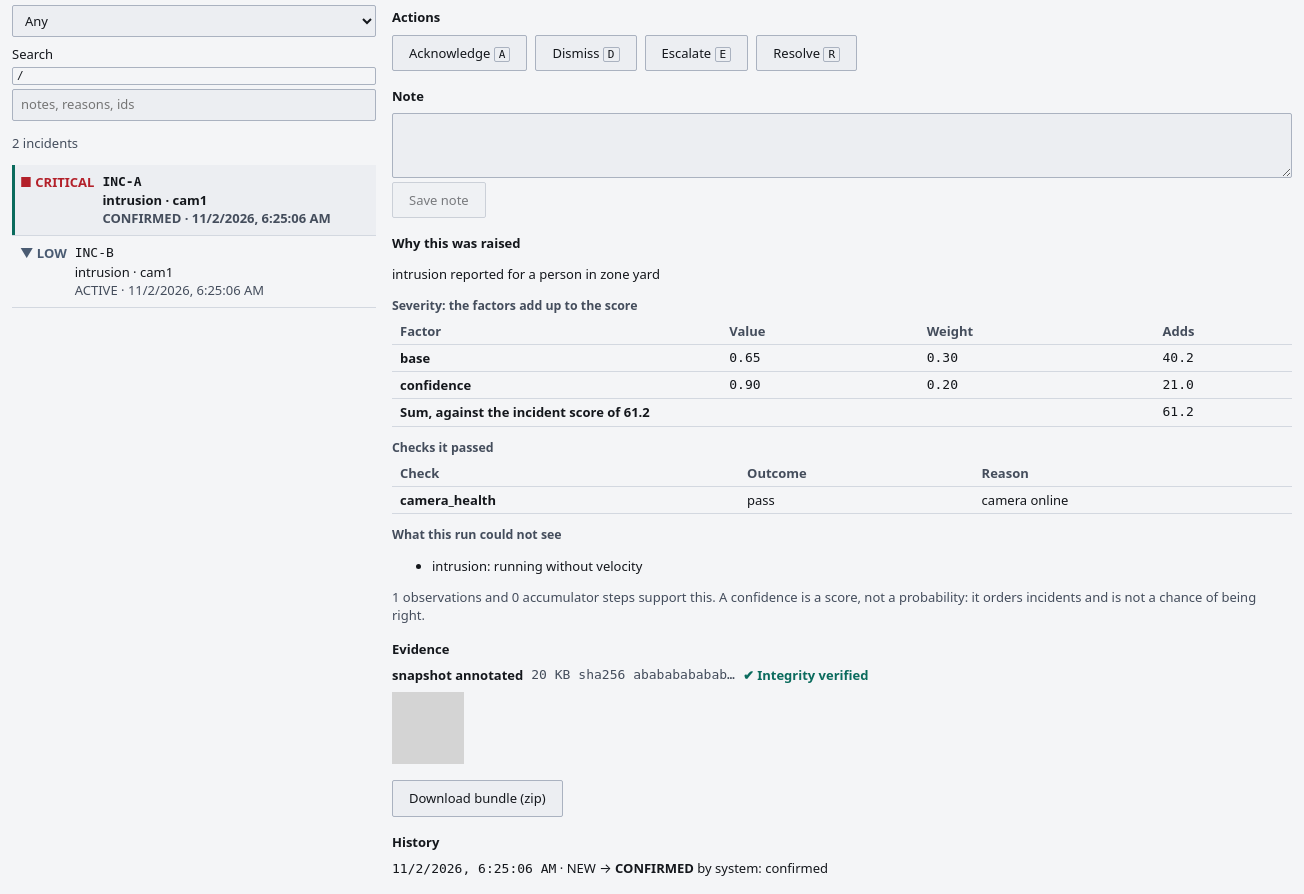
Test case: the detail › says when the bundle could not be made
The image size is (1304, 894).
(page scrolled)
What coordinates should you click on to do the following:
click the button "Download bundle (zip)"
I would click on:
 (477, 798)
Its box is [392,780,563,817].
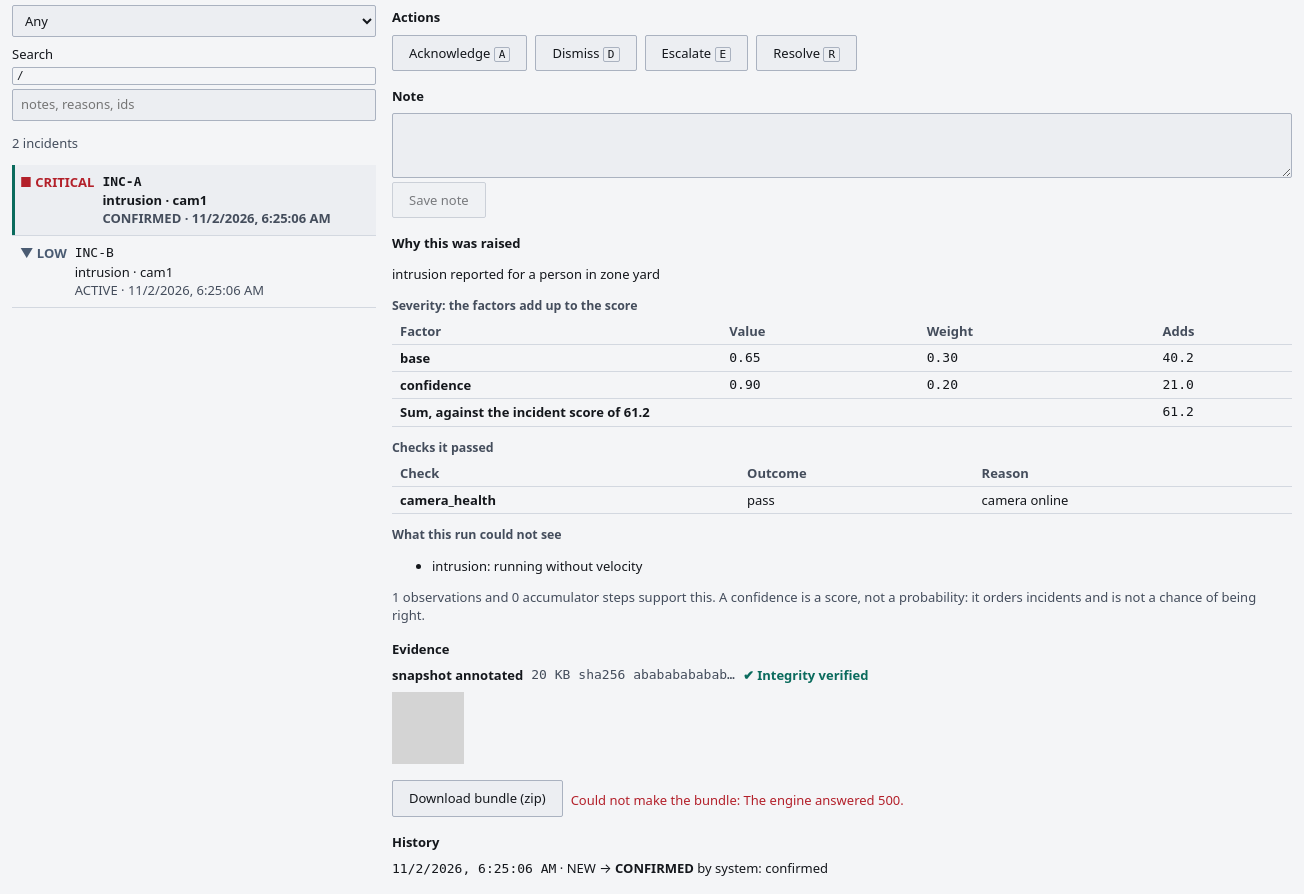
Expected: the text "Could not make the bundle: The engine answered 500." is shown, [571,791,904,809]
